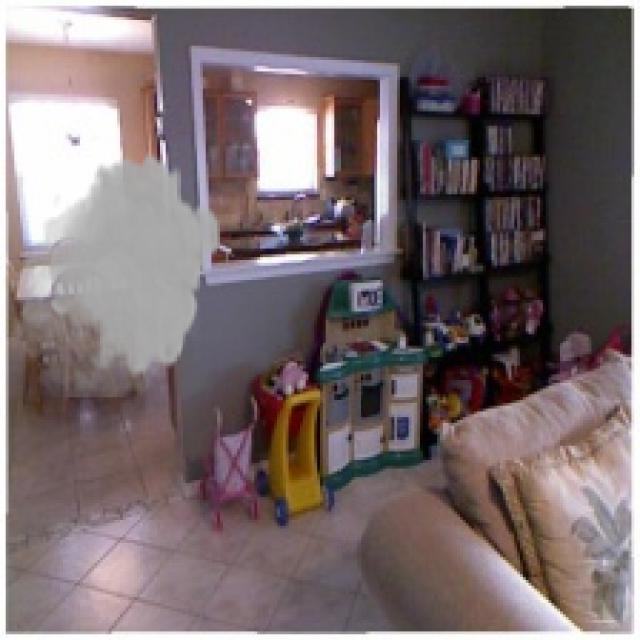smoke: (3, 149, 223, 397)
